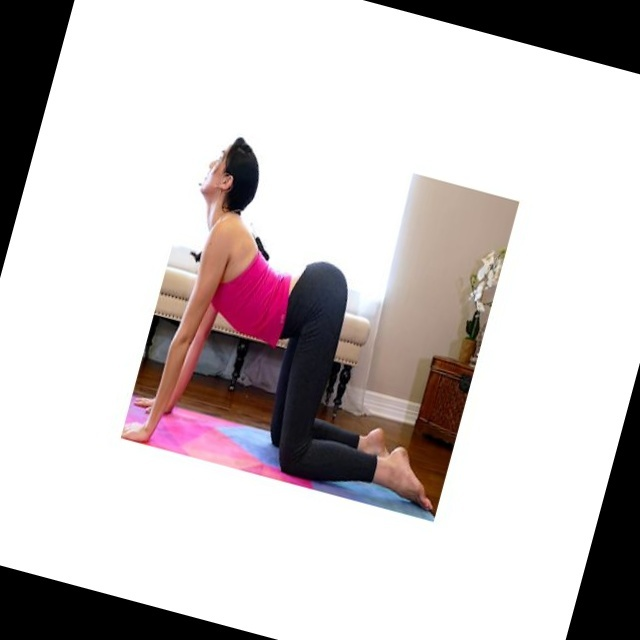Cow_Pose: (122, 137, 433, 511)
